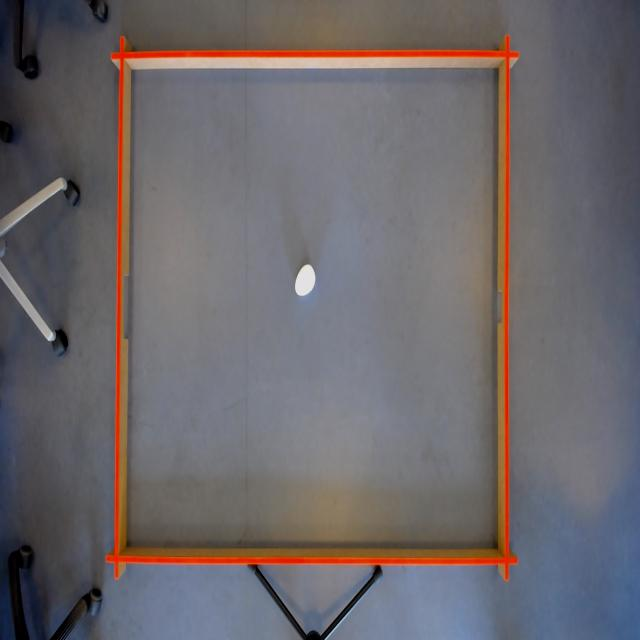egg: (292, 262, 318, 300)
